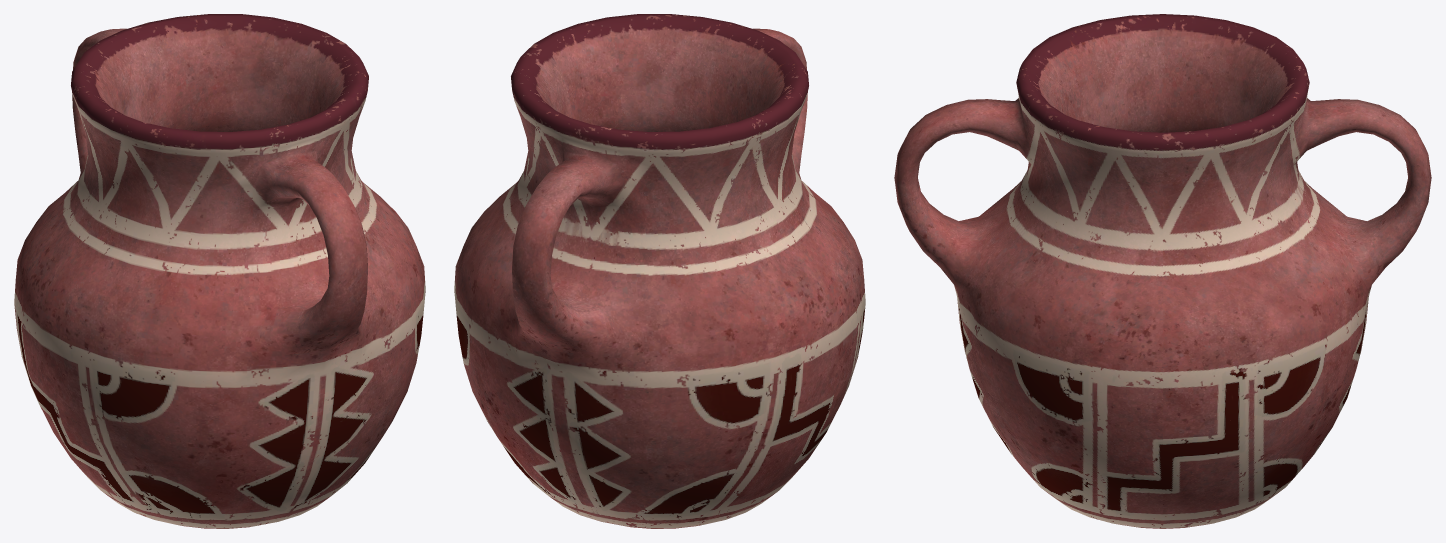
File: aztec_vase_02_root.fbx
3 views of the same model, side by side, from view 1: azimuth 30°, elevation 25°; view 2: azimuth 150°, elevation 25°; view 3: azimuth 270°, elevation 25° (orthographic).
Parts seen in each view (by area): view 1: aztec_vase_02_sh_4, aztec_vase_02_sh_5, aztec_vase_02_sh_1, aztec_vase_02_sh_3, aztec_vase_02_sh_2; view 2: aztec_vase_02_sh_2, aztec_vase_02_sh_1, aztec_vase_02_sh_4, aztec_vase_02_sh_3; view 3: aztec_vase_02_sh_1, aztec_vase_02_sh_5, aztec_vase_02_sh_4, aztec_vase_02_sh_3, aztec_vase_02_sh_2.
Boxes of the visible parts, x1,y1,x2,y2 form: aztec_vase_02_sh_4: [28, 79, 367, 423]; aztec_vase_02_sh_5: [94, 184, 425, 513]; aztec_vase_02_sh_1: [73, 14, 410, 233]; aztec_vase_02_sh_3: [32, 382, 362, 528]; aztec_vase_02_sh_2: [14, 45, 134, 388]; aztec_vase_02_sh_2: [519, 121, 819, 476]; aztec_vase_02_sh_1: [454, 14, 666, 408]; aztec_vase_02_sh_4: [635, 14, 865, 400]; aztec_vase_02_sh_3: [465, 369, 850, 528]; aztec_vase_02_sh_1: [1040, 43, 1431, 423]; aztec_vase_02_sh_5: [896, 192, 1154, 482]; aztec_vase_02_sh_4: [894, 14, 1219, 220]; aztec_vase_02_sh_3: [1033, 373, 1354, 528]; aztec_vase_02_sh_2: [1213, 19, 1404, 374].
Size of the model in its own units: 46.18 by 51.69 by 60.23.
1 material, 1 textured.
